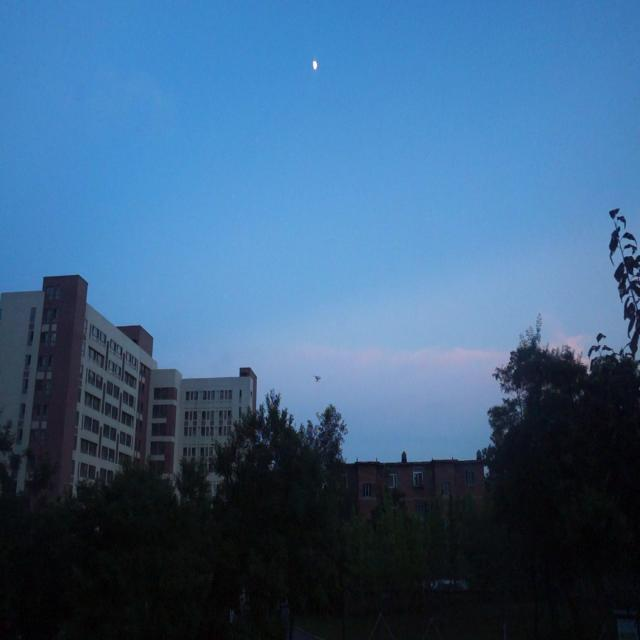UAV: (313, 375, 321, 382)
